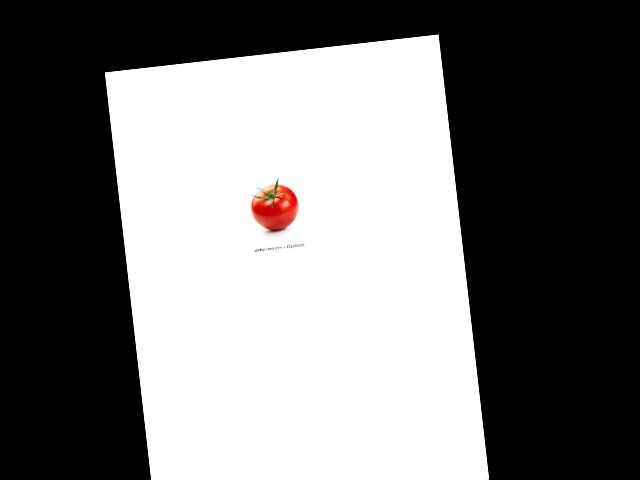tomato: (249, 182, 300, 232)
